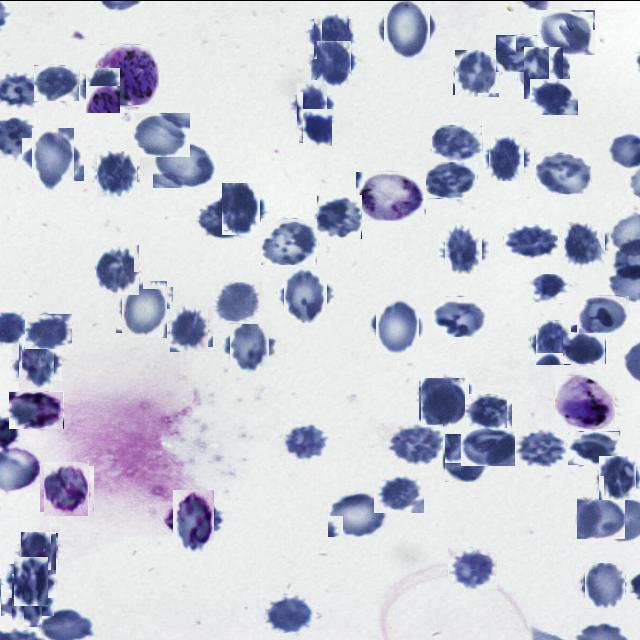gametocyte: (97, 44, 159, 106)
red blood cell: (153, 139, 217, 187), (380, 0, 435, 54), (328, 490, 390, 536), (537, 8, 596, 54), (168, 494, 220, 546), (27, 132, 79, 184), (261, 217, 318, 264), (118, 284, 170, 334), (133, 112, 190, 156), (280, 268, 330, 318), (42, 464, 92, 514), (373, 301, 422, 350), (387, 423, 442, 466), (420, 377, 468, 425), (226, 321, 274, 369), (536, 152, 592, 193), (95, 245, 142, 292), (432, 296, 486, 336), (454, 49, 500, 95), (562, 223, 608, 269), (521, 49, 567, 95), (424, 159, 478, 198), (212, 282, 262, 324), (218, 185, 263, 231), (461, 427, 515, 465), (9, 391, 64, 428), (444, 434, 488, 480), (577, 496, 625, 538), (448, 547, 497, 588), (317, 194, 362, 238), (504, 222, 558, 258), (432, 123, 483, 161), (579, 294, 630, 332), (95, 152, 139, 196), (442, 226, 486, 270), (374, 474, 424, 512), (516, 428, 566, 466), (265, 594, 314, 632), (281, 422, 330, 460), (584, 562, 626, 606), (200, 198, 246, 238), (16, 341, 58, 384), (568, 430, 620, 464), (168, 306, 210, 348), (6, 578, 48, 620), (10, 559, 52, 601), (464, 392, 512, 428), (530, 78, 578, 114), (486, 136, 527, 177), (34, 64, 80, 100), (25, 313, 72, 348), (311, 15, 351, 56), (598, 457, 638, 498), (314, 42, 354, 82), (534, 322, 574, 362), (83, 69, 123, 109), (496, 34, 539, 71), (563, 331, 606, 363), (20, 532, 58, 568), (294, 84, 330, 122), (530, 274, 569, 304), (300, 110, 334, 144)
trophozoite: (356, 171, 426, 220), (555, 374, 616, 428)
